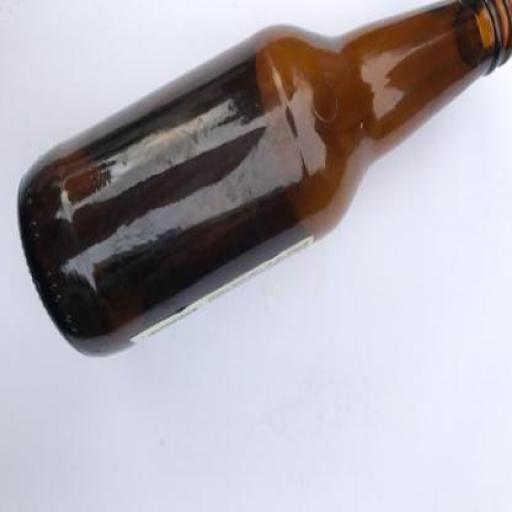glass: (17, 1, 511, 361)
